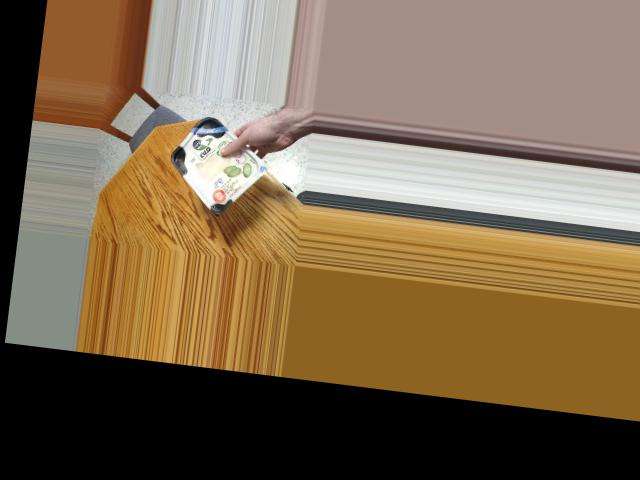cheese: (164, 120, 255, 207)
